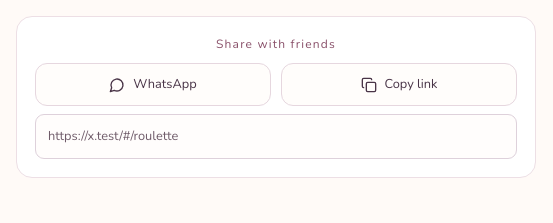
it: offers WhatsApp and copy sharing with the message and link
The image size is (553, 223).
Click the button "Copy link" at (399, 85), box [281,63,517,106]
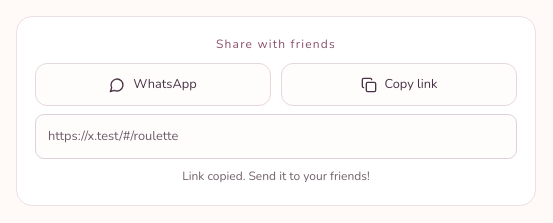
Result: the text "Link copied. Send it to your friends!" is shown at [182,168,370,184]
